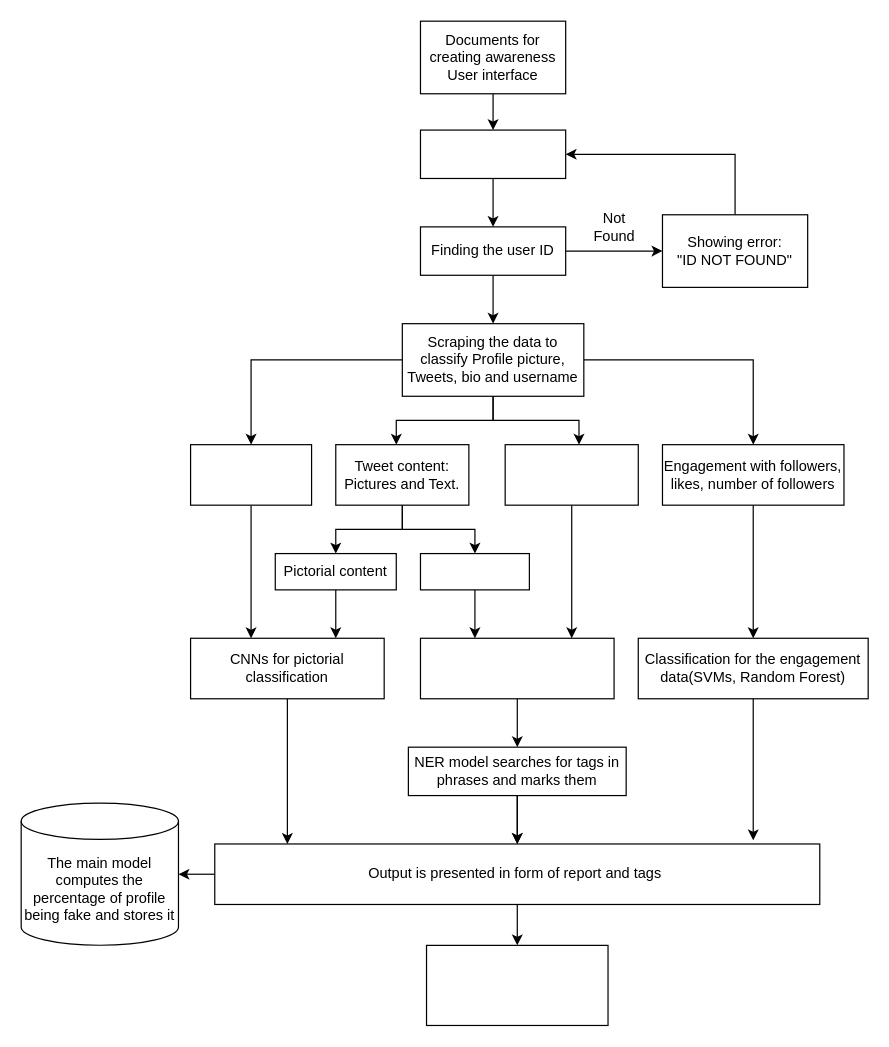
Image size: 889x1047. Some labels were removed from this diagram. Each missing label, with the box of its shape:
Bio and User name: (504, 443, 638, 505)
Enter User ID: (419, 129, 566, 178)
Neural Network for Textual classification: (419, 637, 614, 699)
Profile Picture: (189, 443, 312, 505)
Textual content: (419, 552, 529, 590)
The cyber department reviews the profile: (425, 944, 608, 1025)
